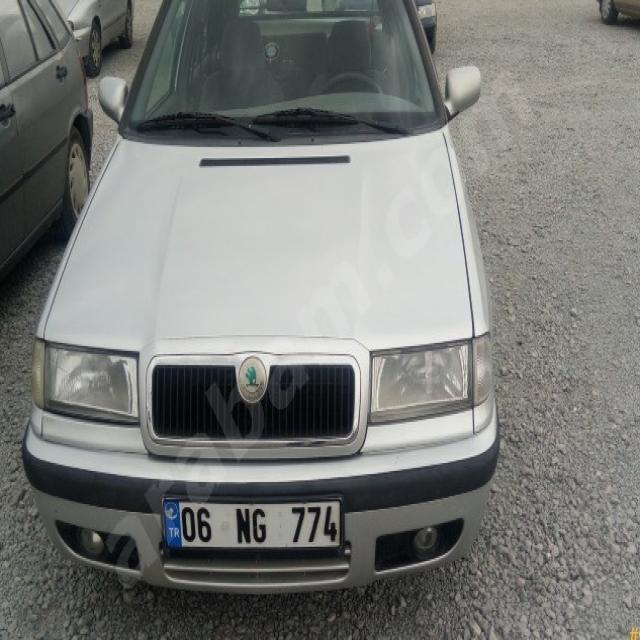license_plate: (162, 498, 342, 548)
